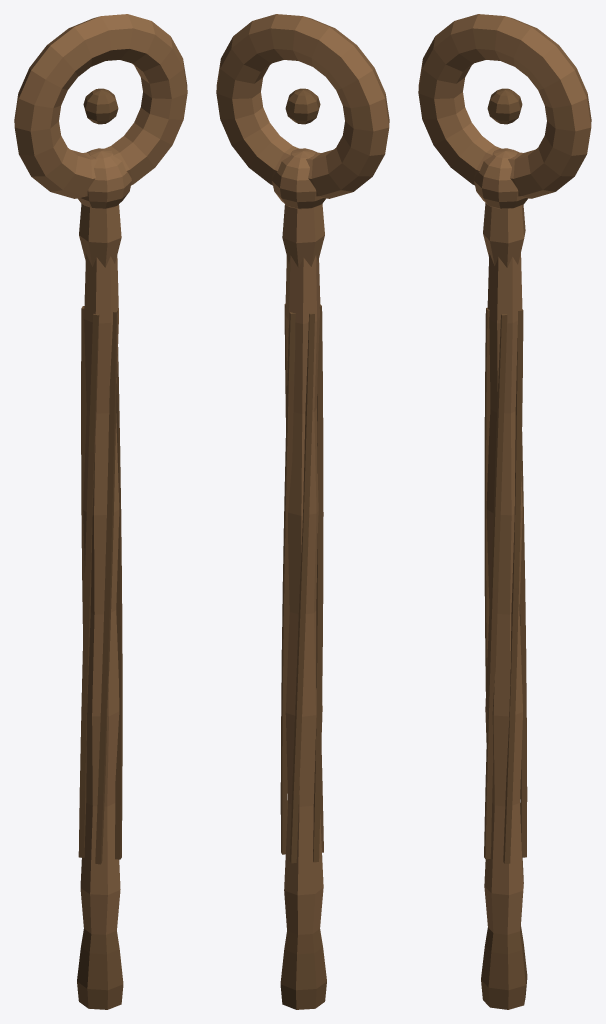
The model's file is staff_knotwood.glb.
3 views of the same model, side by side, from view 1: azimuth 30°, elevation 25°; view 2: azimuth 150°, elevation 25°; view 3: azimuth 330°, elevation 25° (orthographic).
Visible parts, largest first — view 1: Kw_Knot, Kw_Shaft, Kw_Ridge3, Kw_Ridge2, Kw_Foot, Kw_Ridge4, Kw_Neck, Kw_Boss, Kw_Ridge1, Kw_Boss2; view 2: Kw_Knot, Kw_Shaft, Kw_Ridge1, Kw_Ridge0, Kw_Ridge2, Kw_Foot, Kw_Neck, Kw_Boss, Kw_Boss2; view 3: Kw_Knot, Kw_Shaft, Kw_Ridge3, Kw_Ridge4, Kw_Foot, Kw_Neck, Kw_Boss, Kw_Ridge0, Kw_Ridge2, Kw_Boss2.
Part boxes in pixels (x1,y1,x2,y2): Kw_Knot: (14,14,187,198); Kw_Shaft: (80,253,120,934); Kw_Ridge3: (95,310,117,864); Kw_Ridge2: (78,314,99,857); Kw_Foot: (77,929,123,1009); Kw_Ridge4: (115,347,122,859); Kw_Neck: (79,204,121,267); Kw_Boss: (78,148,131,209); Kw_Ridge1: (81,306,86,638); Kw_Boss2: (83,88,118,124); Kw_Knot: (216,14,389,198); Kw_Shaft: (284,255,323,934); Kw_Ridge1: (289,312,314,863); Kw_Ridge0: (280,312,295,854); Kw_Ridge2: (313,304,323,862); Kw_Foot: (280,929,326,1009); Kw_Neck: (282,204,324,267); Kw_Boss: (272,148,325,209); Kw_Boss2: (285,88,320,124); Kw_Knot: (418,14,591,198); Kw_Shaft: (484,253,523,934); Kw_Ridge3: (484,314,507,859); Kw_Ridge4: (503,309,523,863); Kw_Foot: (481,926,527,1009); Kw_Neck: (483,203,525,267); Kw_Boss: (474,148,527,209); Kw_Ridge0: (519,432,527,857); Kw_Ridge2: (484,307,490,691); Kw_Boss2: (487,88,522,124).
Size of the model in its own units: 0.396 by 2.16 by 0.1179.
